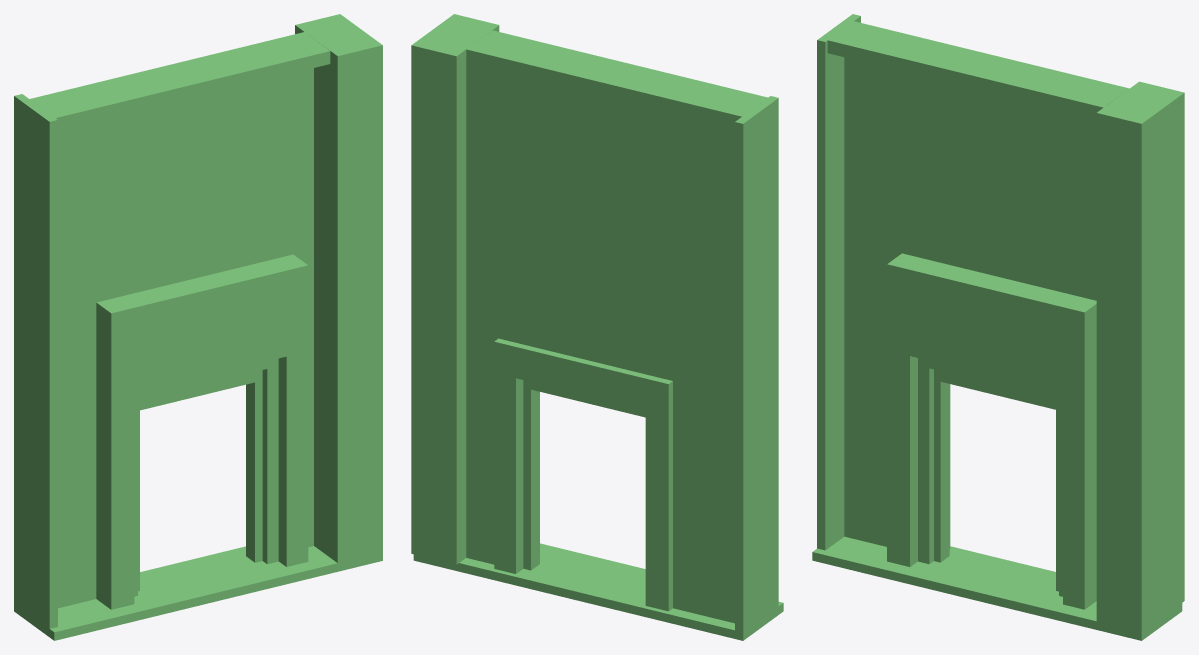
The model's file is Bld3_Wall_Mid_G.fbx.
The picture shows the model from 3 angles, left to right: view 1: azimuth 30°, elevation 25°; view 2: azimuth 150°, elevation 25°; view 3: azimuth 330°, elevation 25°; orthographic projection.
Visible parts, largest first — view 1: Bld3_Wall_Mid_G; view 2: Bld3_Wall_Mid_G; view 3: Bld3_Wall_Mid_G.
Part boxes in pixels (left/top/right/bottom): Bld3_Wall_Mid_G: left=14, top=14, right=382, bottom=640; Bld3_Wall_Mid_G: left=411, top=14, right=783, bottom=640; Bld3_Wall_Mid_G: left=812, top=14, right=1184, bottom=640.
Bounding box in the file's own units: 600 × 900 × 135.
